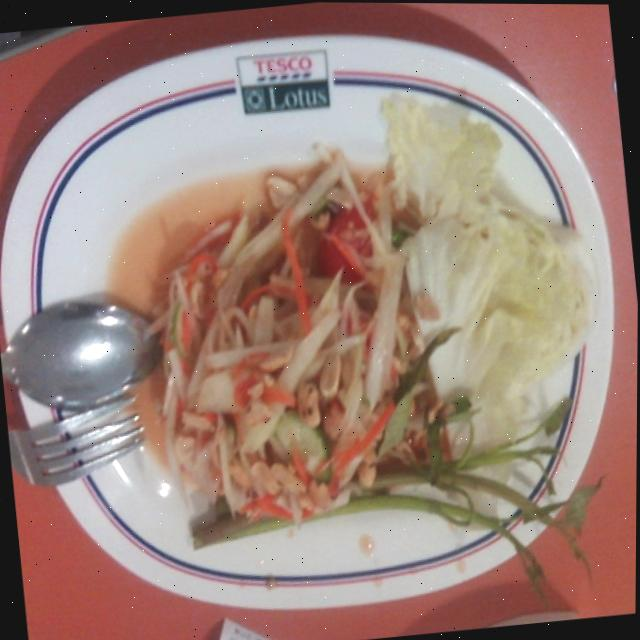蔬菜料理: (47, 104, 575, 568)
